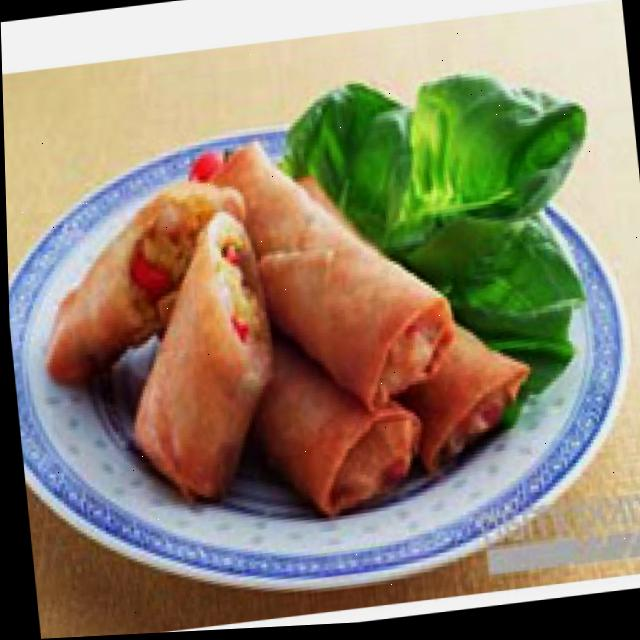鸡蛋料理: (28, 114, 550, 554)
